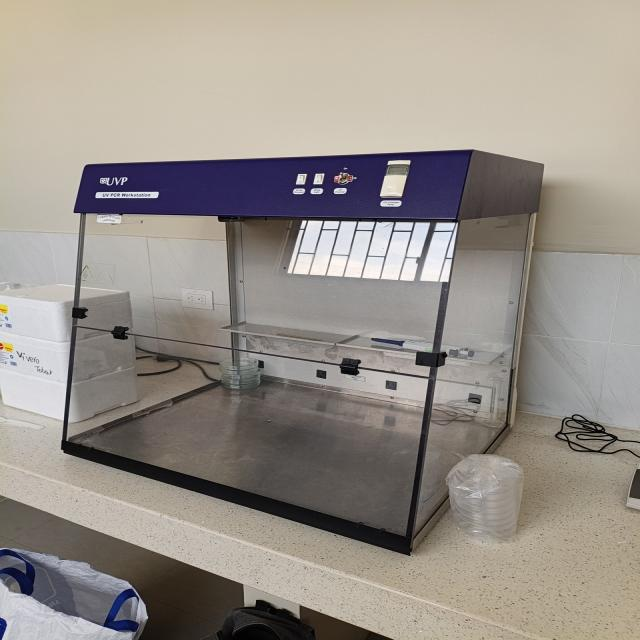Cabina de Flujo Laminar: (62, 150, 543, 554)
